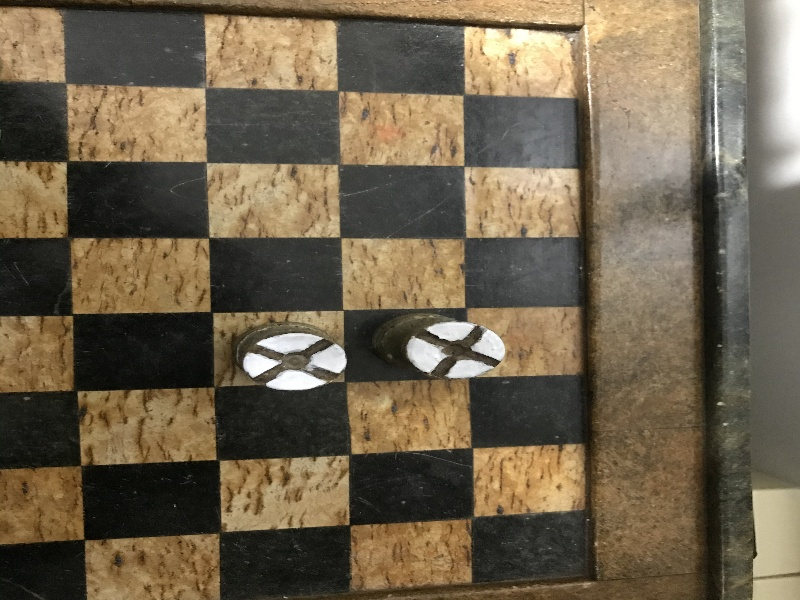WhiteBishop: (374, 313, 504, 378), (235, 323, 345, 391)
